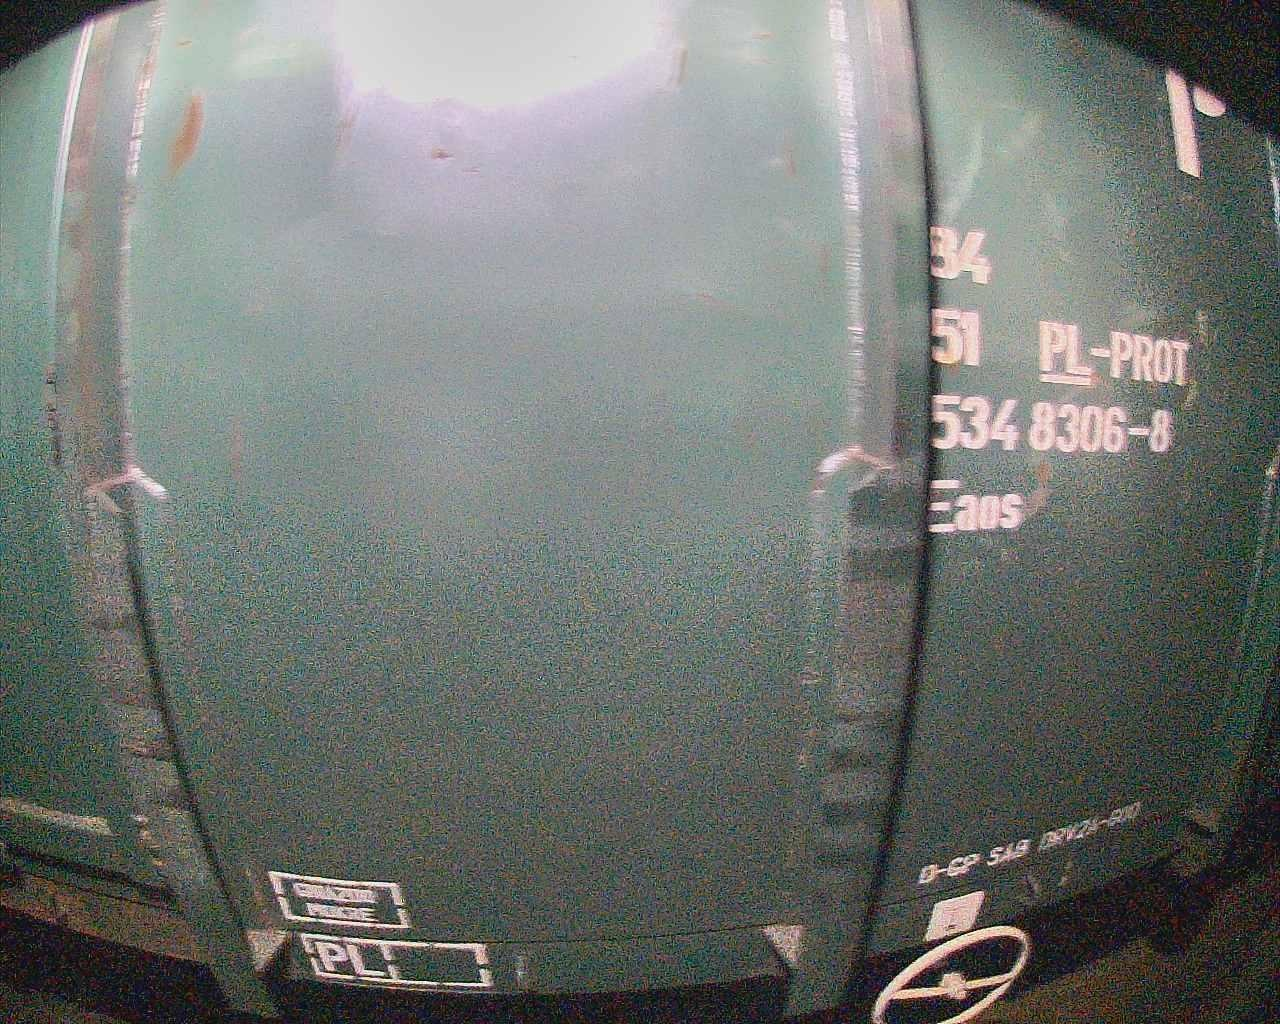UIC: (920, 224, 1193, 539)
